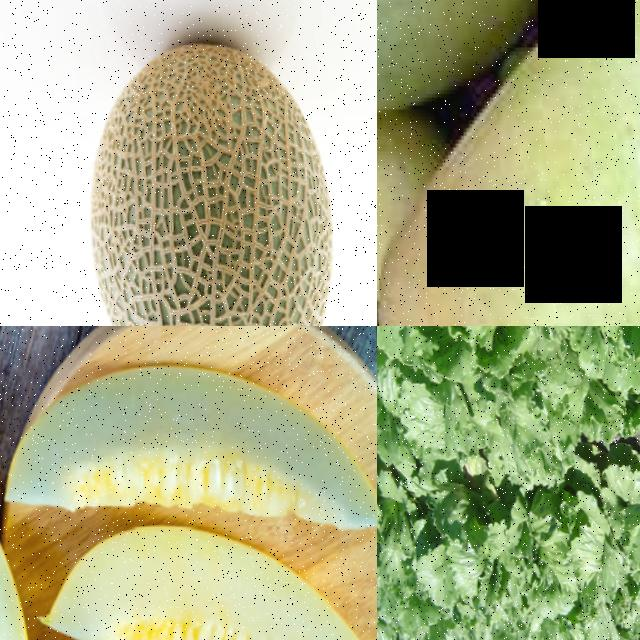lettuce: (519, 343, 619, 458), (388, 365, 501, 462), (501, 506, 577, 615), (403, 535, 485, 611), (612, 491, 640, 575)
mango: (377, 0, 640, 326)
melon: (69, 34, 347, 326), (0, 351, 377, 530), (30, 516, 358, 640)
